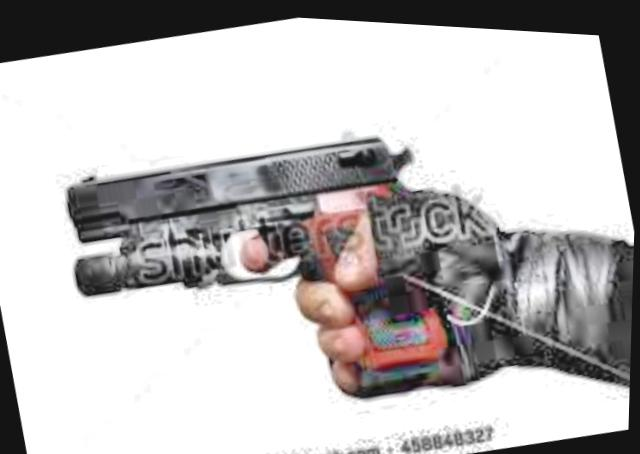pistol: (42, 84, 481, 454)
